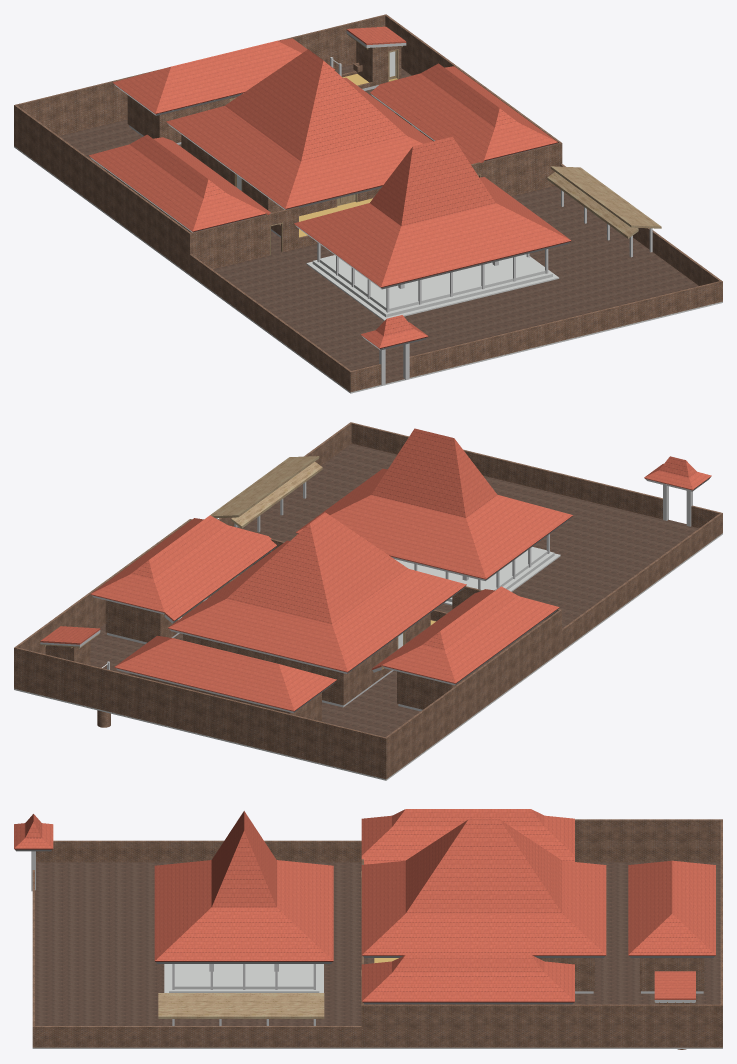
The model's file is rumah_joglo_jawa.glb.
The picture shows the model from 3 angles, top to bottom: view 1: azimuth 30°, elevation 25°; view 2: azimuth 150°, elevation 25°; view 3: azimuth 270°, elevation 25°; orthographic projection. The views are drawn at different scales.
Visible parts, largest first — view 1: Mesh408_Roof_Tiles___French_Red_0, Mesh106_Brick___Brown_0, Mesh339_Earth___Brown_0, Mesh1_Concrete___04_0, Mesh107_Paint___Light_Gray_0, Mesh88_Wood___Pine_Grained_Horizontal_0, Mesh107_Paint___Golden_Ochre_0; view 2: Mesh408_Roof_Tiles___French_Red_0, Mesh106_Brick___Brown_0, Mesh339_Earth___Brown_0, Mesh107_Paint___Light_Gray_0, Mesh1_Concrete___04_0, Mesh88_Wood___Pine_Grained_Horizontal_0; view 3: Mesh408_Roof_Tiles___French_Red_0, Mesh106_Brick___Brown_0, Mesh339_Earth___Brown_0, Mesh1_Concrete___04_0, Mesh88_Wood___Pine_Grained_Horizontal_0, Mesh107_Paint___Light_Gray_0.
Boxes of the visible parts, x1,y1,x2,y2 form: Mesh408_Roof_Tiles___French_Red_0: (89, 26, 571, 348); Mesh106_Brick___Brown_0: (14, 14, 722, 392); Mesh339_Earth___Brown_0: (59, 64, 698, 383); Mesh1_Concrete___04_0: (14, 146, 722, 393); Mesh107_Paint___Light_Gray_0: (90, 31, 652, 385); Mesh88_Wood___Pine_Grained_Horizontal_0: (229, 34, 661, 255); Mesh107_Paint___Golden_Ochre_0: (299, 74, 397, 237); Mesh408_Roof_Tiles___French_Red_0: (40, 428, 711, 711); Mesh106_Brick___Brown_0: (14, 422, 722, 779); Mesh339_Earth___Brown_0: (90, 443, 698, 737); Mesh107_Paint___Light_Gray_0: (40, 477, 710, 713); Mesh1_Concrete___04_0: (14, 533, 722, 780); Mesh88_Wood___Pine_Grained_Horizontal_0: (40, 456, 405, 669); Mesh408_Roof_Tiles___French_Red_0: (14, 809, 715, 1002); Mesh106_Brick___Brown_0: (32, 819, 722, 1049); Mesh339_Earth___Brown_0: (35, 862, 720, 1025); Mesh1_Concrete___04_0: (32, 964, 722, 1048); Mesh88_Wood___Pine_Grained_Horizontal_0: (158, 871, 695, 1018); Mesh107_Paint___Light_Gray_0: (15, 849, 714, 1025).
Bounding box in the file's own units: 11.07 × 4.69 × 17.8.
11 materials, 4 textured.
